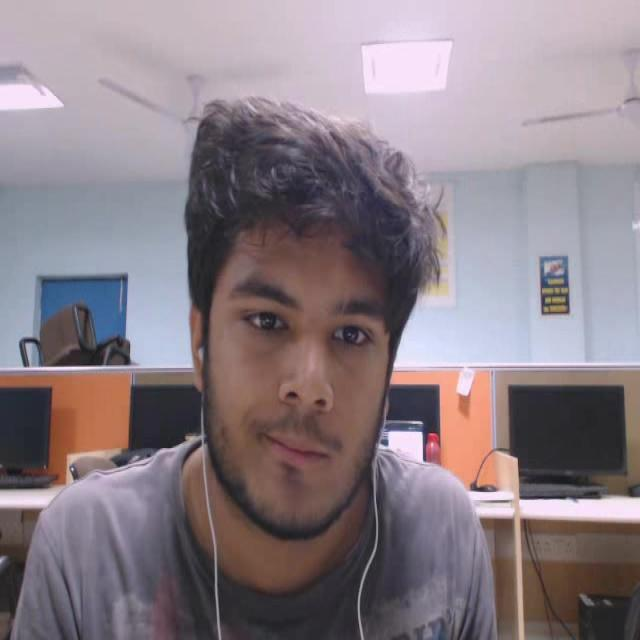Engaged: (136, 74, 464, 556)
